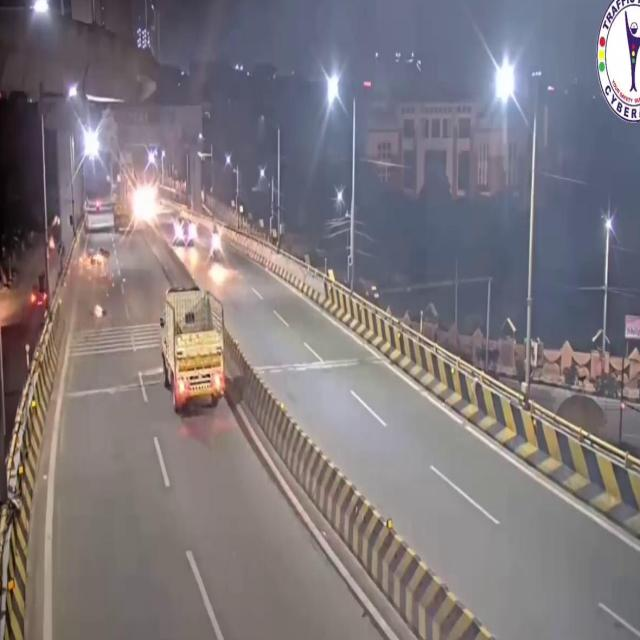accident: (71, 242, 117, 290)
